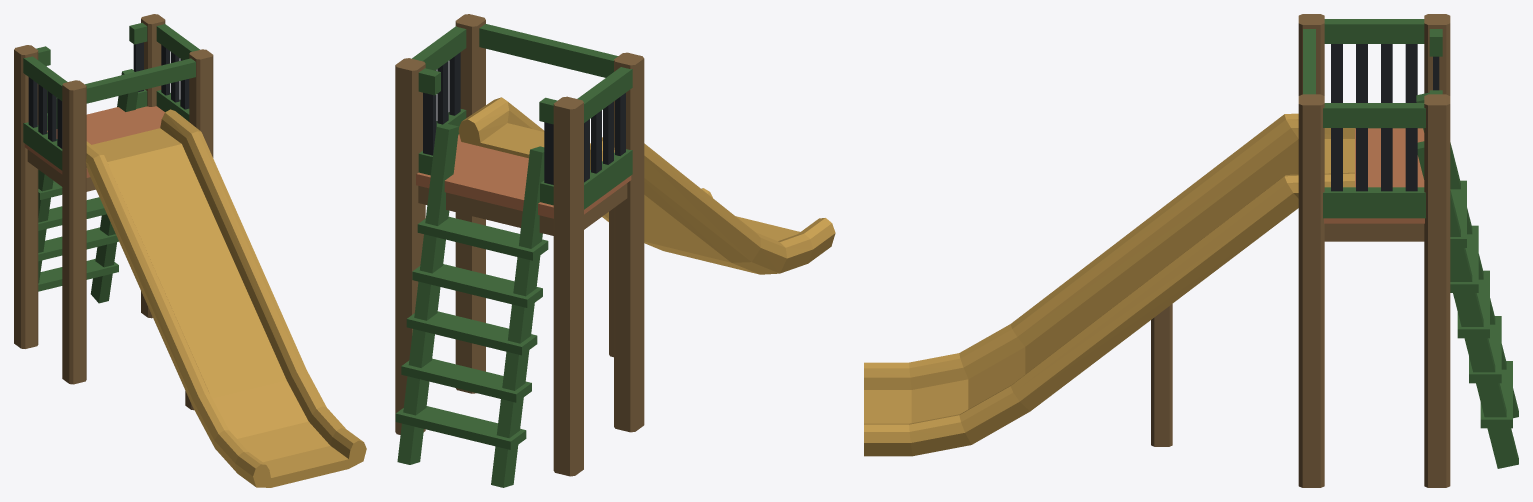
File: playground-slide-8b764c.glb
The picture shows the model from 3 angles, left to right: view 1: azimuth 30°, elevation 25°; view 2: azimuth 150°, elevation 25°; view 3: azimuth 270°, elevation 25°; orthographic projection. The views are drawn at different scales.
Visible parts, largest first — view 1: playground-slide; view 2: playground-slide; view 3: playground-slide.
Part boxes in pixels (<box>): playground-slide: <box>14,14,366,487</box>; playground-slide: <box>395,14,835,487</box>; playground-slide: <box>864,14,1518,487</box>.
Bounding box in the file's own units: 1 × 1.95 × 3.02.
